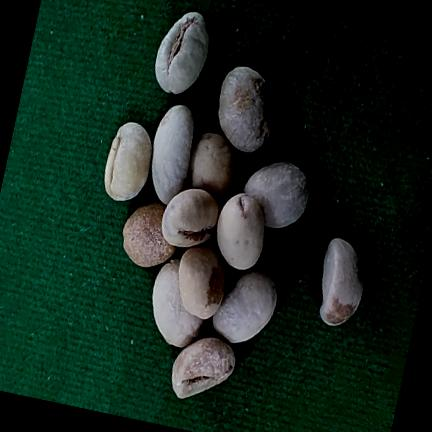husk: (218, 67, 274, 153), (213, 270, 277, 343), (152, 259, 204, 348), (155, 12, 209, 94), (244, 162, 309, 228), (152, 105, 194, 205), (172, 337, 235, 399), (104, 122, 152, 201), (320, 238, 363, 326), (217, 194, 265, 270), (123, 203, 176, 267), (162, 189, 219, 248), (179, 246, 225, 319), (188, 133, 237, 197)
